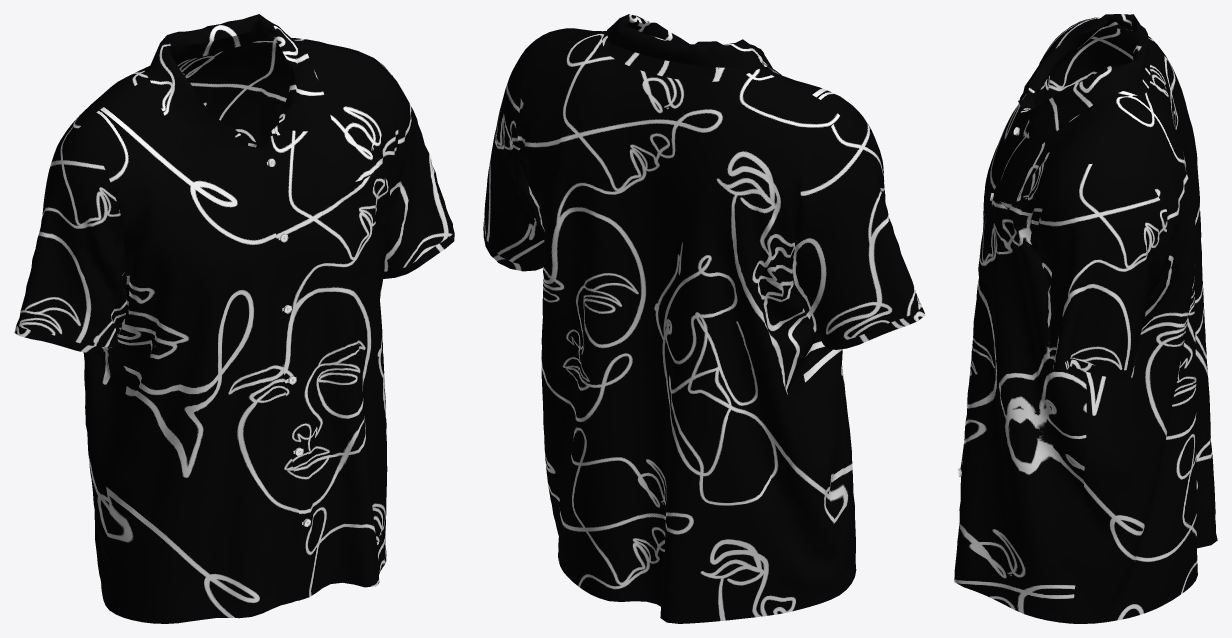
Rendered from sex-ism.glb.
The picture shows the model from 3 angles, left to right: view 1: azimuth 30°, elevation 25°; view 2: azimuth 150°, elevation 25°; view 3: azimuth 270°, elevation 25°; orthographic projection. The views are drawn at different scales.
Parts seen in each view (by area): view 1: Object_6, Object_13, Object_3, Object_5, Object_12, Object_4, Object_11, Object_8, Object_7; view 2: Object_3, Object_13, Object_6, Object_12, Object_5, Object_8; view 3: Object_3, Object_6, Object_12, Object_5, Object_13, Object_11, Object_7, Object_4.
Boxes of the visible parts, x1,y1,x2,y2 form: Object_6: (78,40,398,623); Object_13: (16,127,128,347); Object_3: (67,37,331,609); Object_5: (144,14,333,169); Object_12: (375,59,452,271); Object_4: (245,124,311,600); Object_11: (319,175,376,285); Object_8: (14,325,111,353); Object_7: (383,227,454,278); Object_3: (515,33,840,623); Object_13: (792,111,921,342); Object_6: (532,28,861,594); Object_12: (483,40,544,264); Object_5: (602,14,782,81); Object_8: (820,307,925,349); Object_3: (1071,30,1217,623); Object_6: (954,17,1116,623); Object_12: (1037,163,1171,370); Object_5: (1024,14,1150,154); Object_13: (1037,28,1133,104); Object_11: (978,180,1008,298); Object_7: (1050,358,1134,378); Object_4: (960,96,1035,479).
Bounding box in the file's own units: 0.589 × 0.7019 × 0.3166.
Materials: 2 (1 with a texture image).
